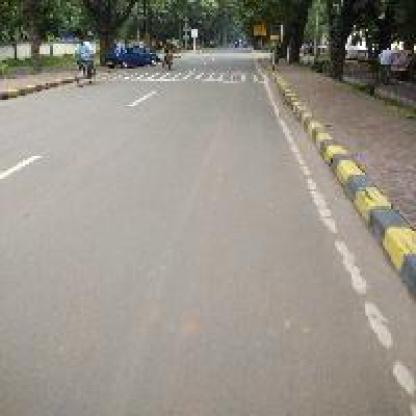Speed Bump: (173, 64, 266, 86)
